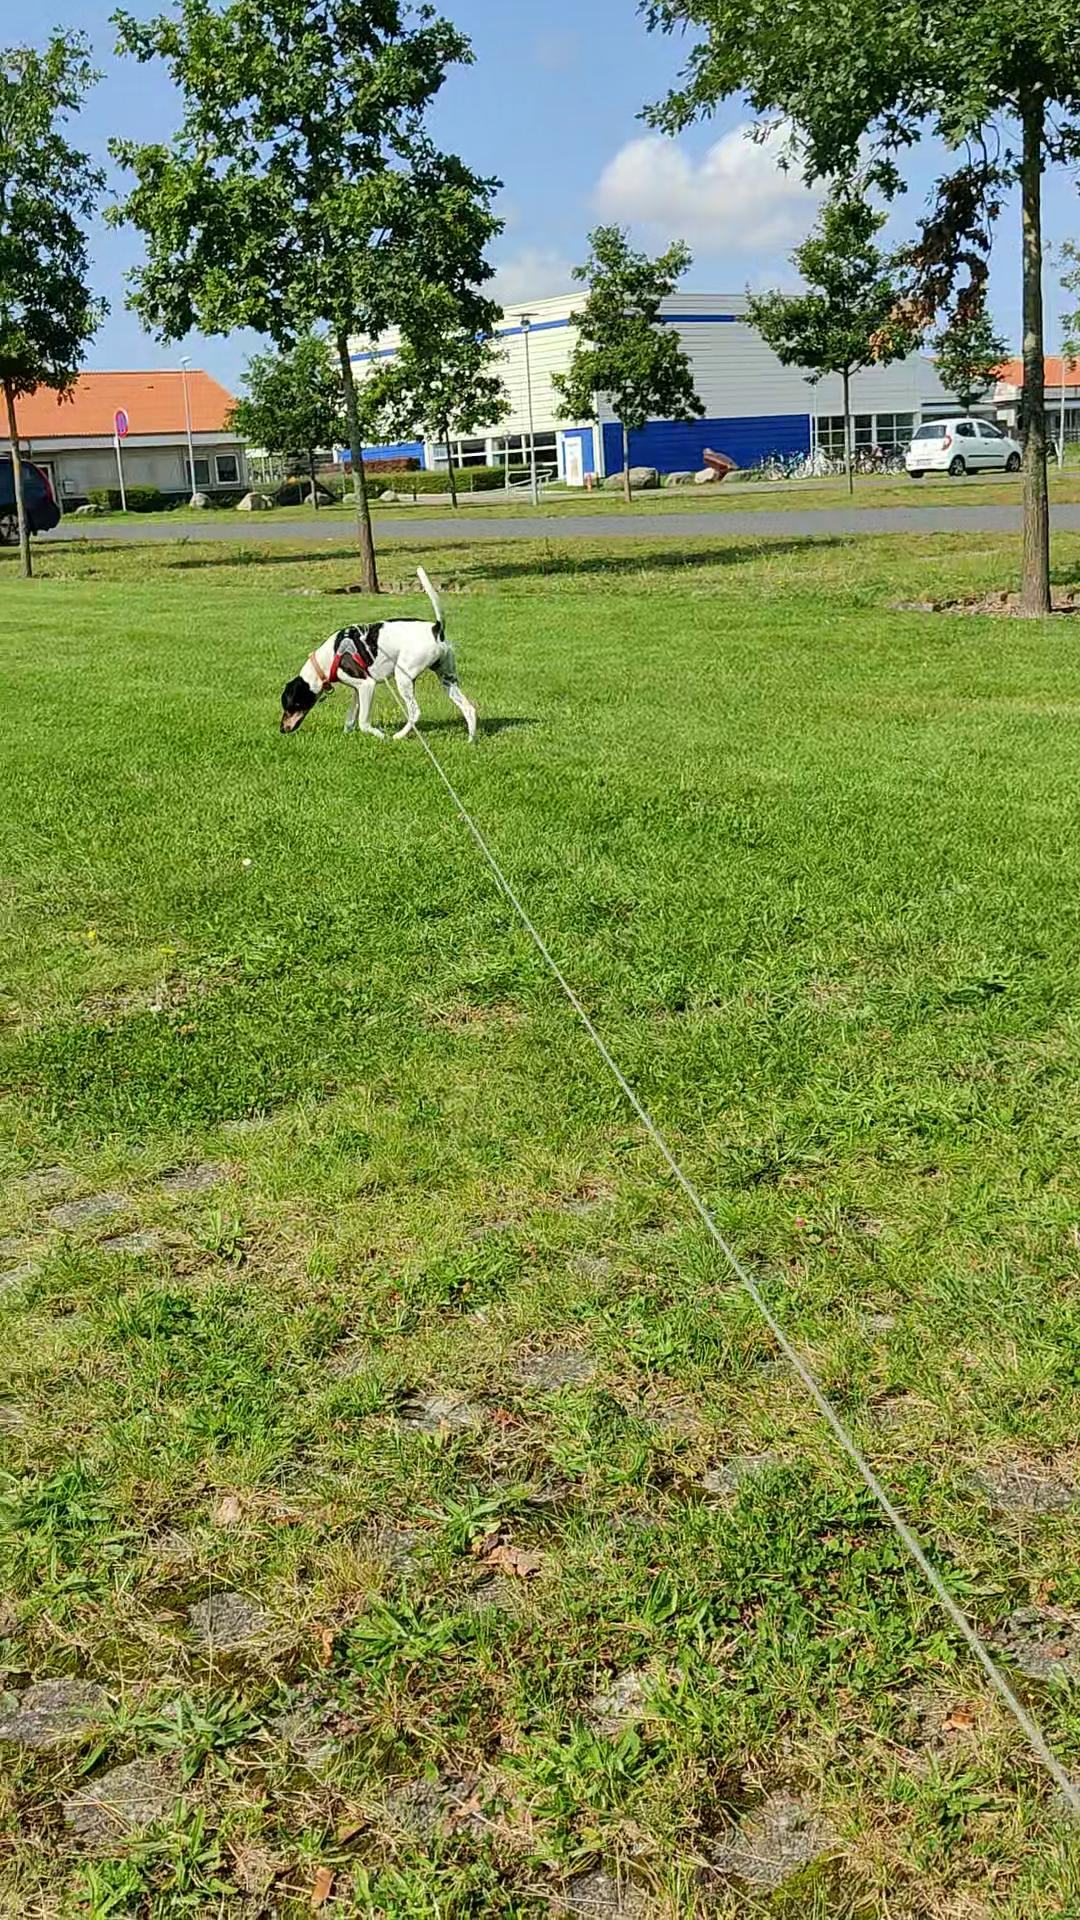Dog: (277, 560, 484, 742)
